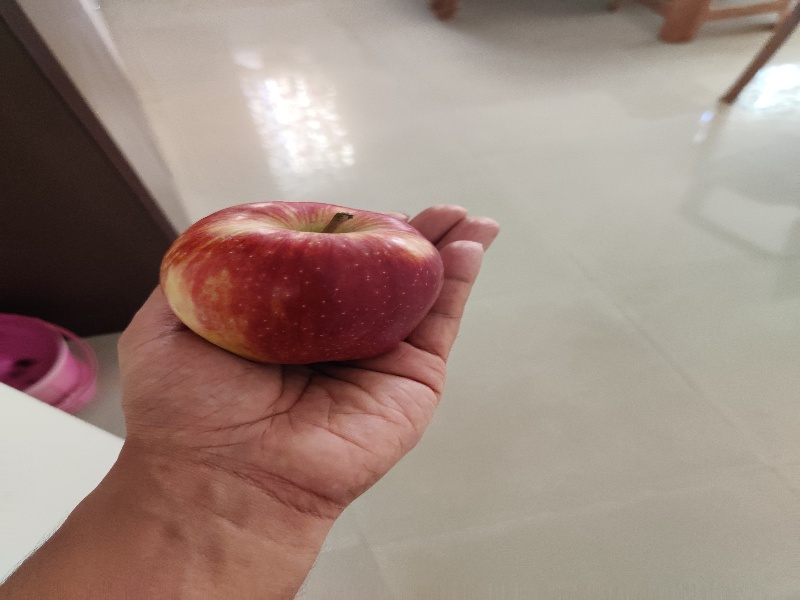apple: (156, 185, 452, 371)
